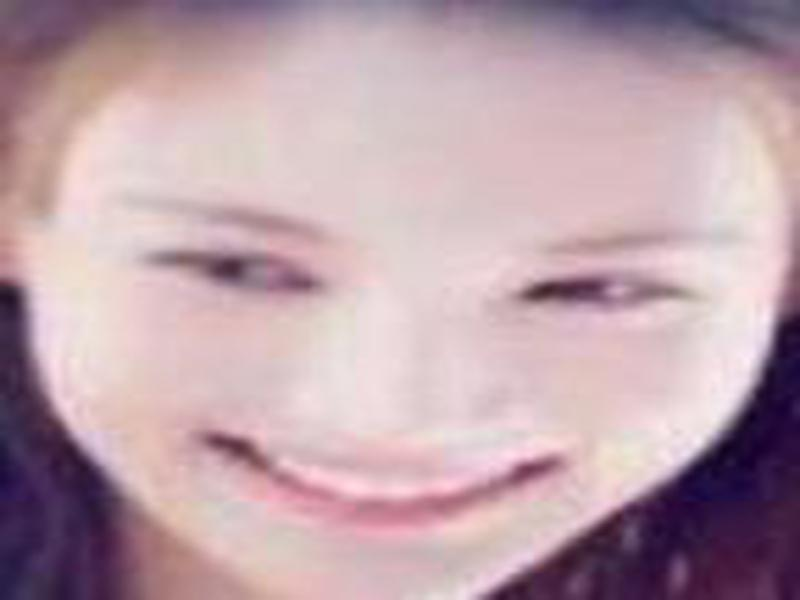without_mask: (31, 25, 787, 600)
